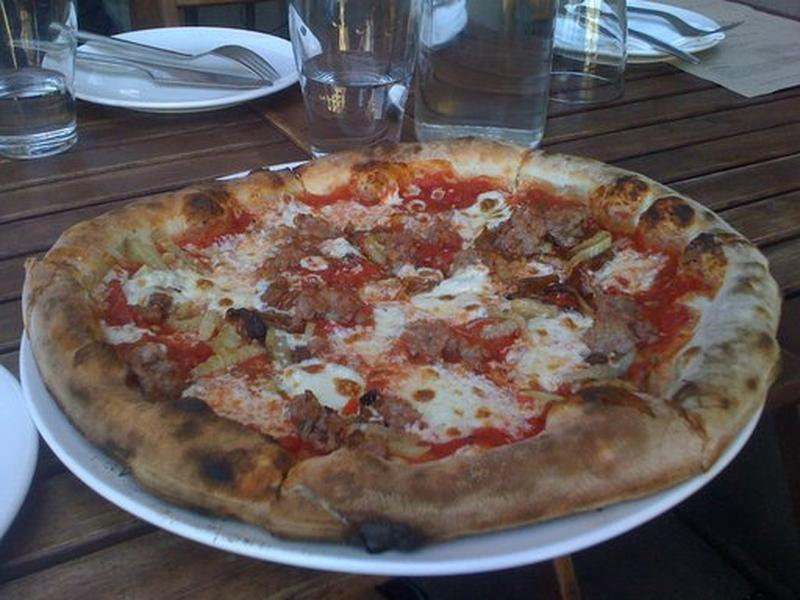pizza: (45, 161, 800, 571)
